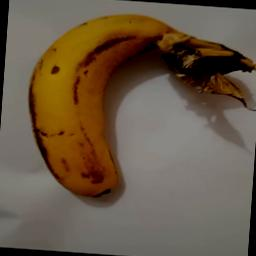Banana Unripe: (18, 5, 256, 209)
